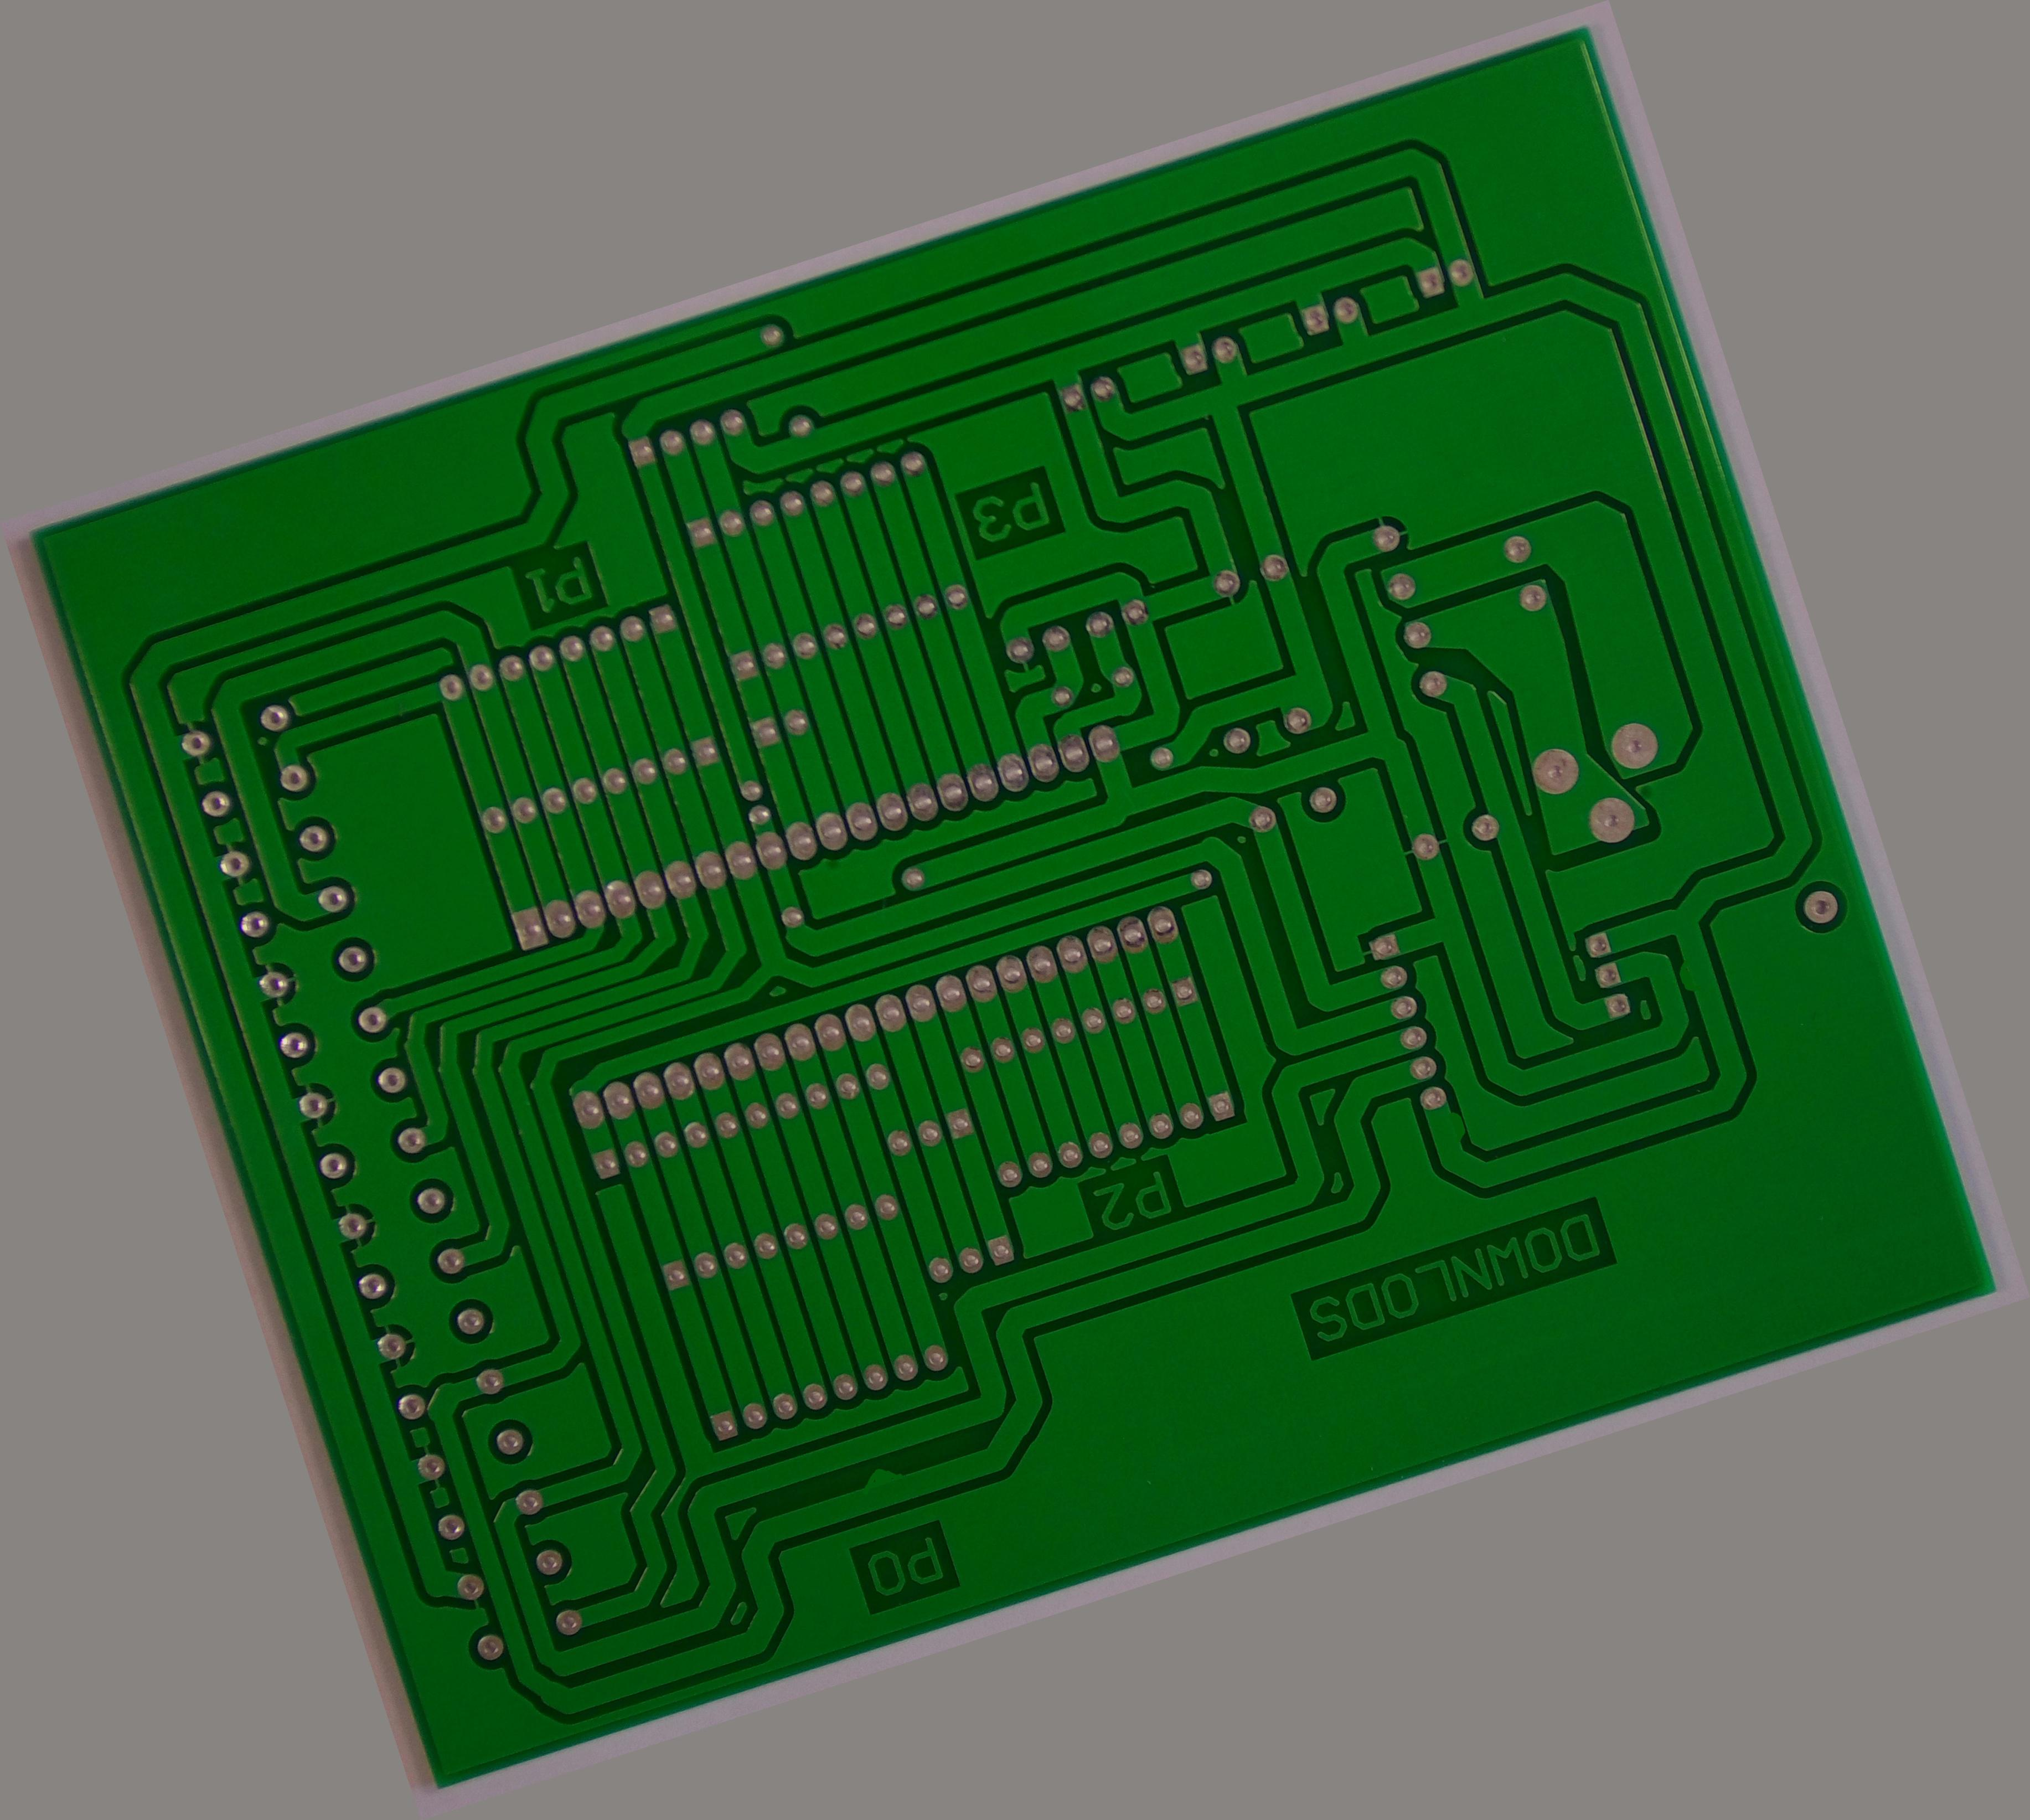spur: (846, 1451, 915, 1507), (1659, 945, 1705, 1007), (1433, 1098, 1477, 1156)
